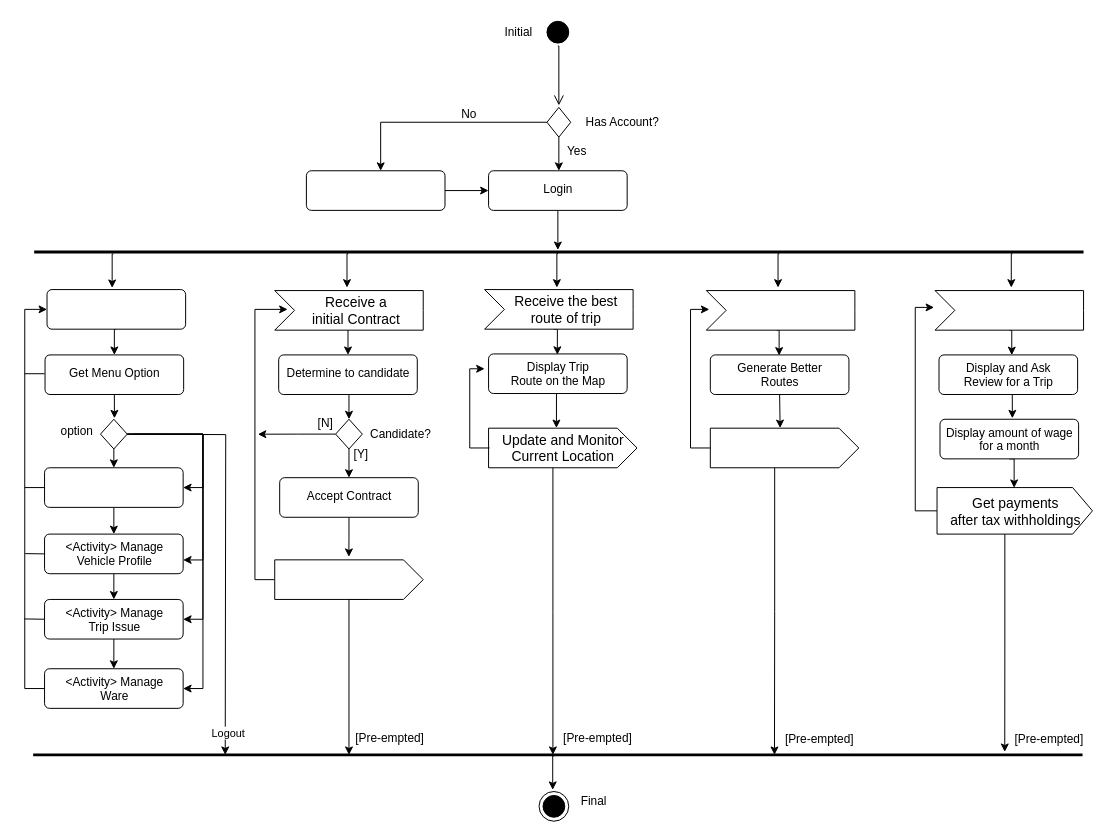
Some shapes in this 1110 by 839 pixel diagram are drawn without their labels. The shapes that lost their labels are listed below. From the top down, each one's centre as x and y in pixels, then its label:
(375,190): Sign up
(116,309): Display Driver Menu
(780,310): Receive Traffic Condition
(1009,310): Receive Trip Arrival
(784,447): Modifying the Trip Route
(113,487): <Activity> Manage Driver Profile
(348,579): Send to candidate in a Contract
